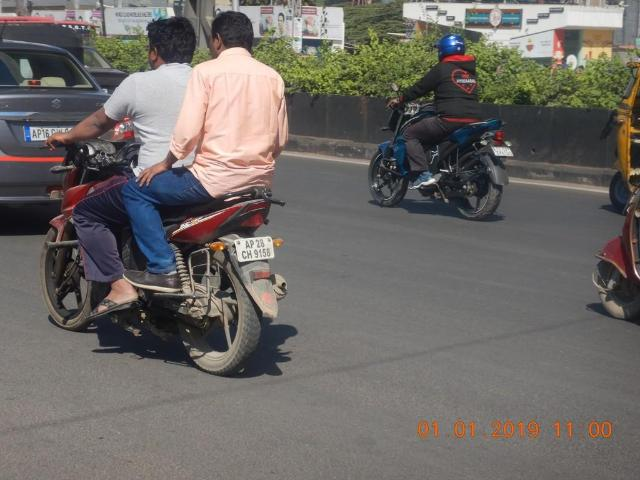helm: (438, 36, 466, 63)
motor: (42, 148, 287, 377), (370, 107, 515, 222)
non-helm: (148, 16, 197, 66), (211, 13, 255, 60)
